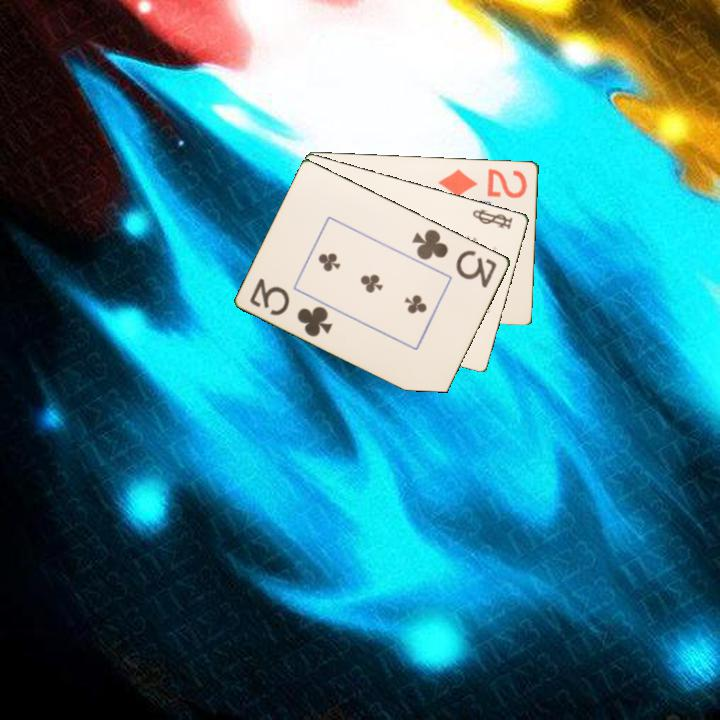2d: (435, 165, 530, 201)
3c: (408, 225, 500, 291), (246, 274, 336, 340)
JK: (469, 205, 516, 232)
